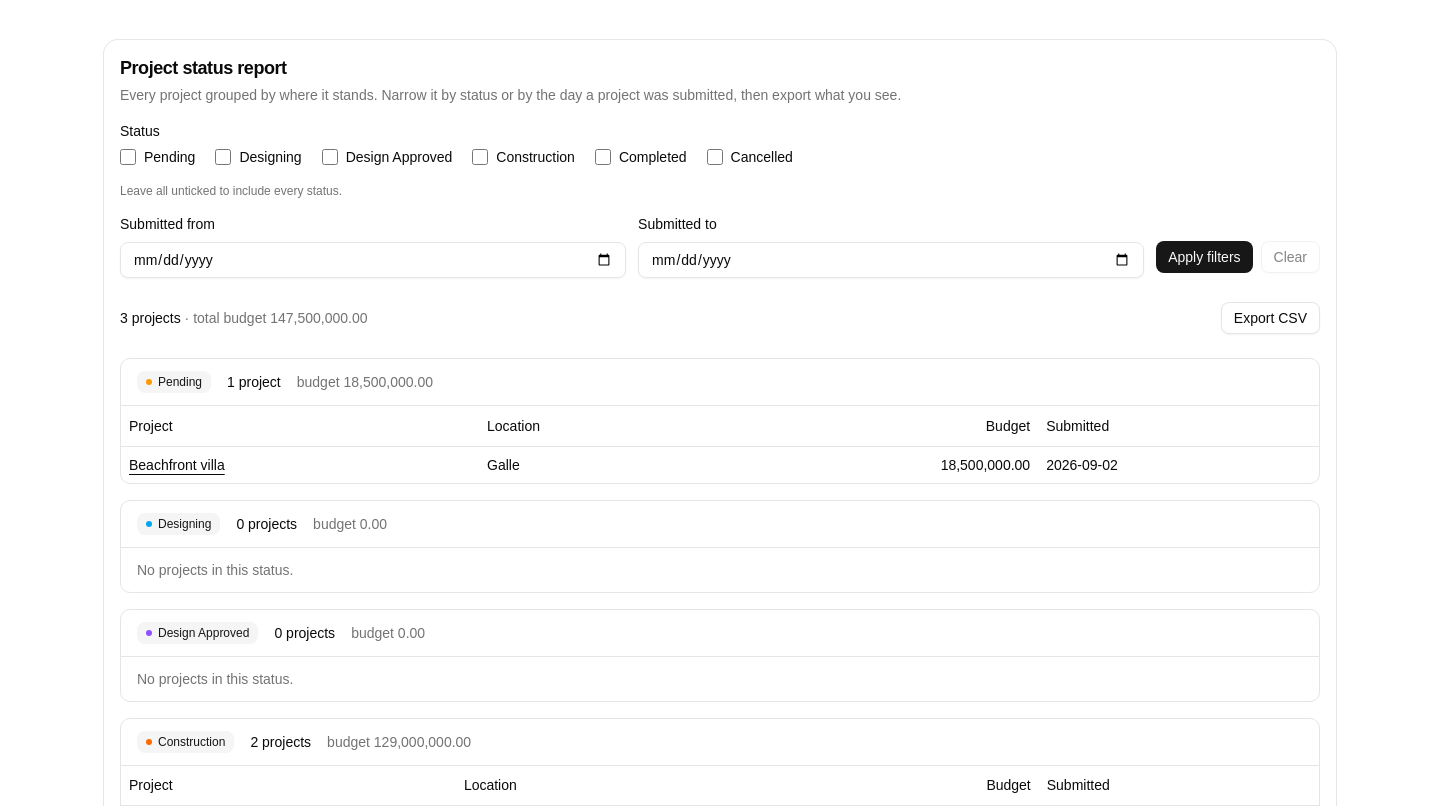
ProjectStatusReportPage — filtering (AC-2) › refuses a range that ends before it starts, beside the end date, without asking
Check: the element with test id "group-Pending" is shown, box [120, 358, 1320, 484]
Type "2026-09-30" into the date field labelled "Submitted from" at x=373, y=260, box [120, 242, 626, 278]
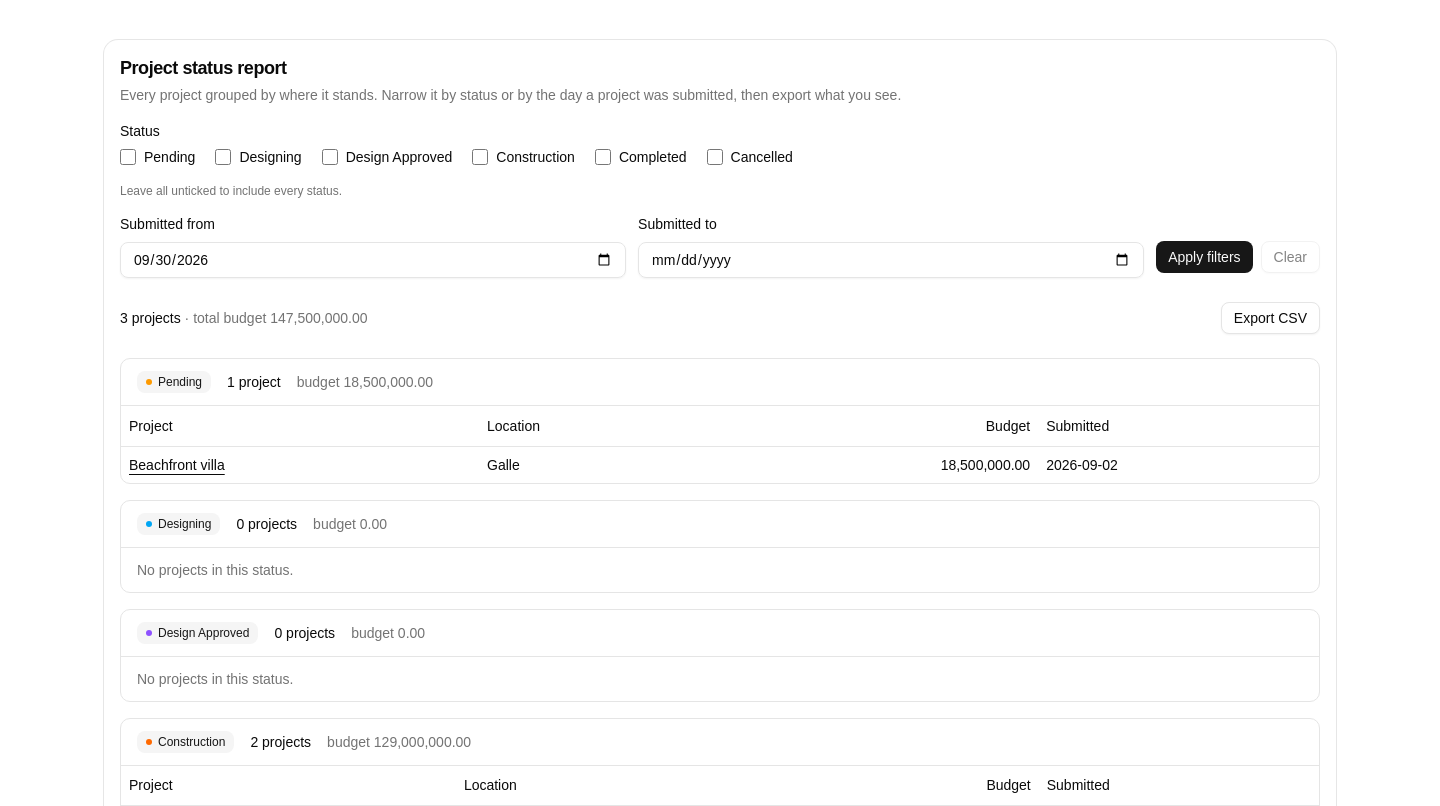
Type "2026-09-01" into the date field labelled "Submitted to" at x=891, y=260, box [638, 242, 1144, 278]
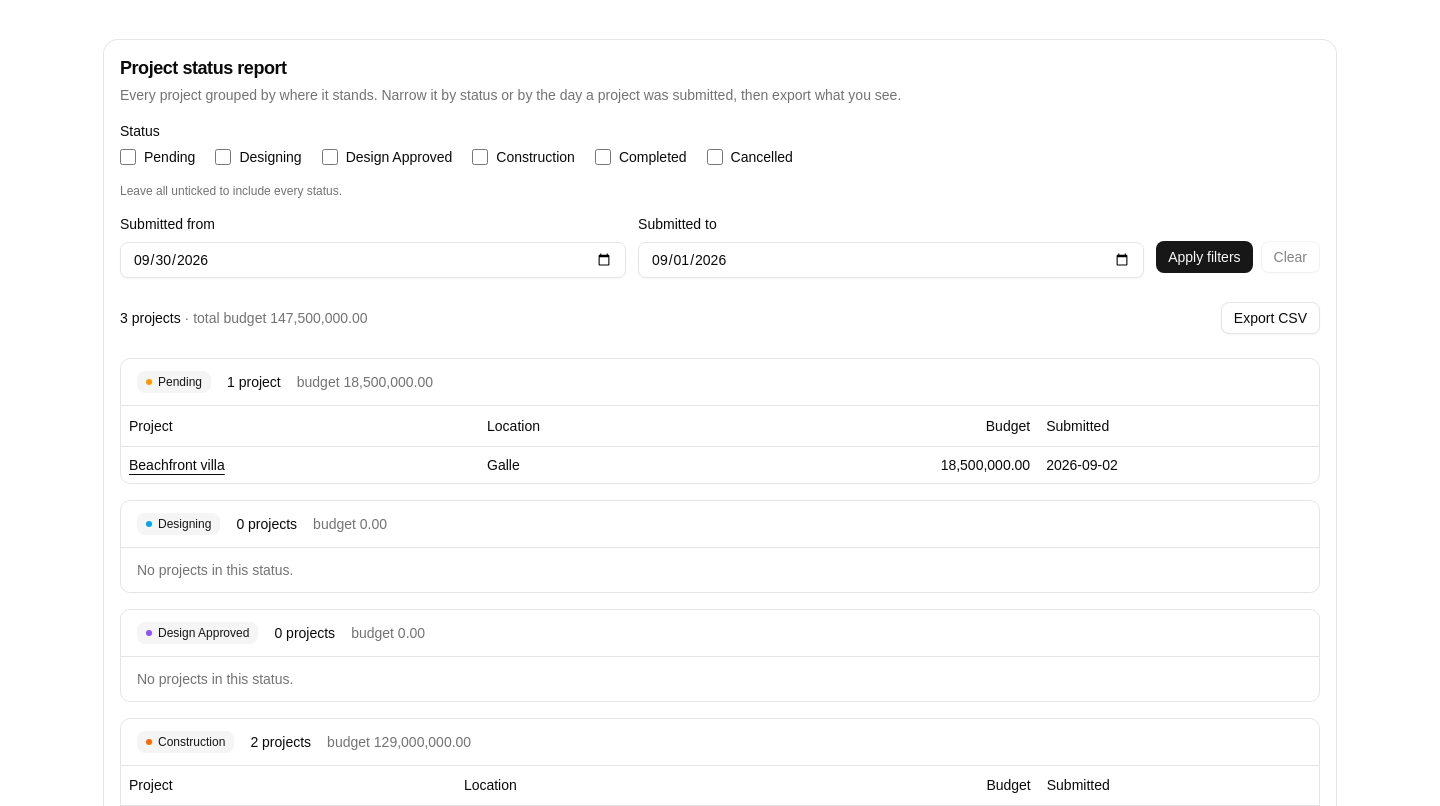
Click the button "Apply filters" at x=1204, y=257, box [1156, 241, 1253, 273]
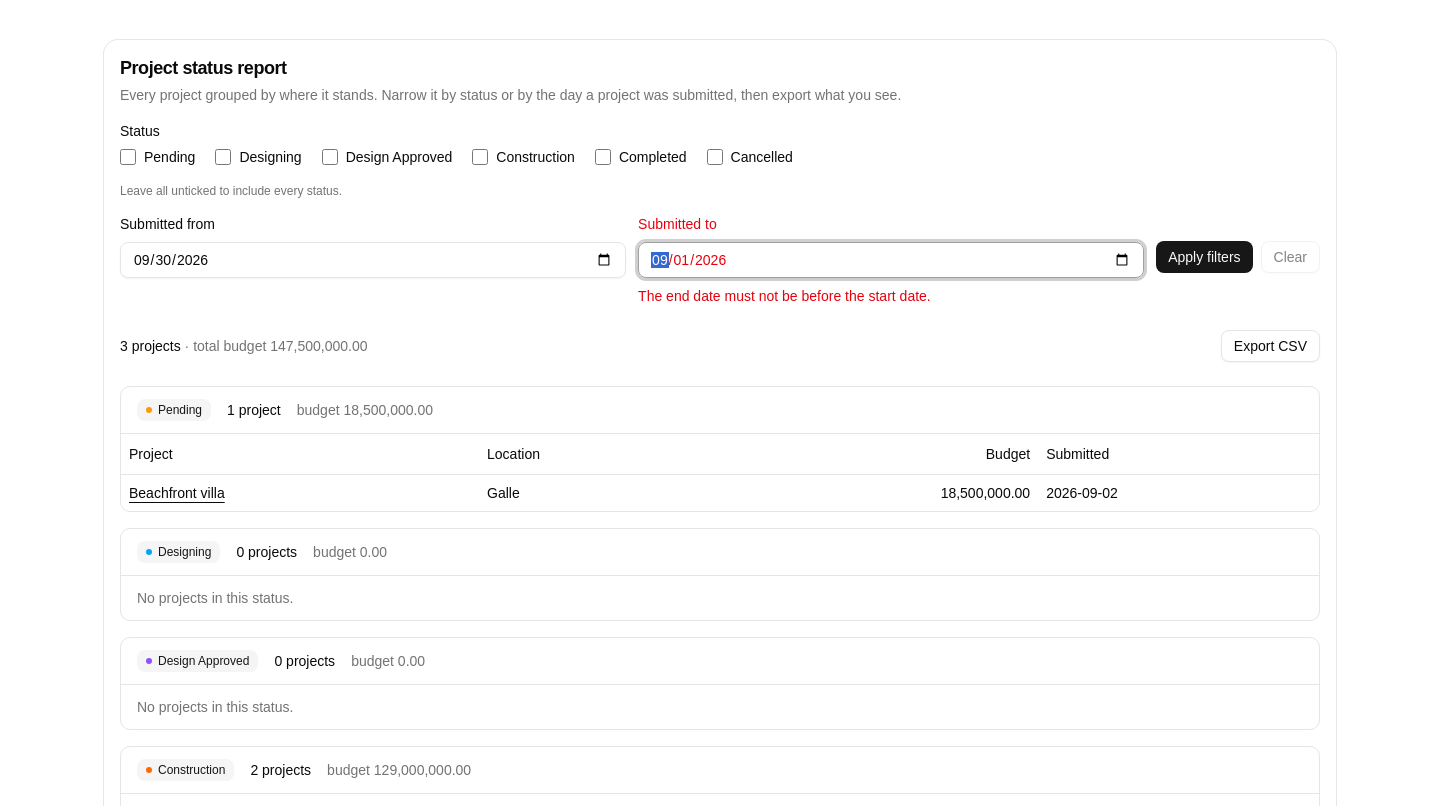
Check: the text "The end date must not be before the start date." is shown, box [638, 288, 931, 304]
